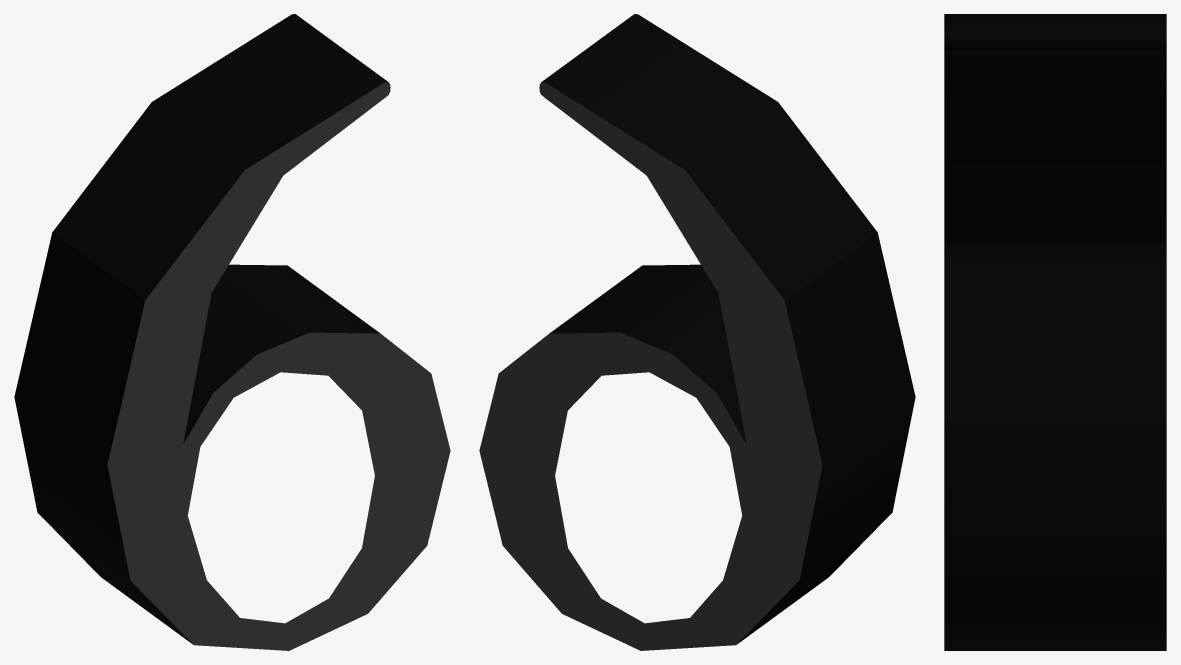
3 views of the same model, side by side, from view 1: azimuth 30°, elevation 25°; view 2: azimuth 150°, elevation 25°; view 3: azimuth 270°, elevation 25° (orthographic). The views are drawn at different scales.
Visible parts, largest first — view 1: 6_Soul_Black; view 2: 6_Soul_Black; view 3: 6_Soul_Black.
Boxes of the visible parts, box(x1,y1,x2,y2) form: 6_Soul_Black: box(14, 14, 450, 650); 6_Soul_Black: box(479, 14, 915, 650); 6_Soul_Black: box(944, 14, 1166, 650).
Size of what is drawn, in the model's own units: 0.0958 by 0.1455 by 0.045.
2 materials, 2 textured.
